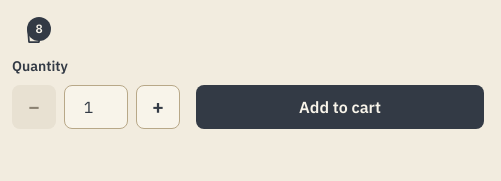
Scenario: AddToCart › at the per-line maximum › refuses an overshoot rather than clamping to the maximum
The image size is (501, 181).
Click the button named "Increase quantity".
click(158, 107)  # box [136,85,180,129]
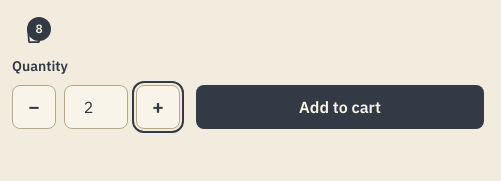
Click the button named "Increase quantity".
click(158, 107)  # box [136,85,180,129]
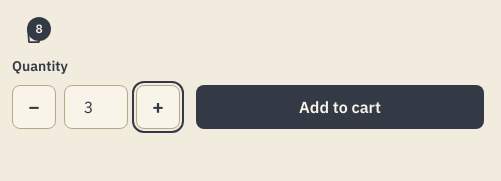
Click the button named "Increase quantity".
click(158, 107)  # box [136,85,180,129]
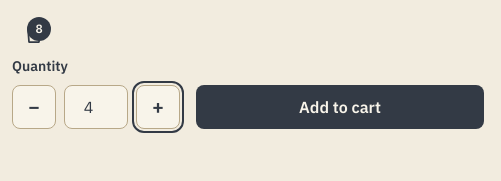
Click the button named "Increase quantity".
click(158, 107)  # box [136,85,180,129]
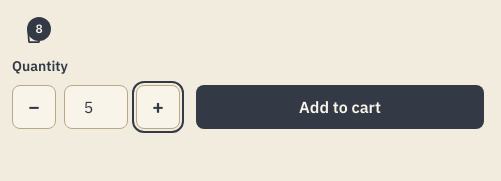
Click the button "Add to cart".
click(340, 107)  # box [196,85,484,129]
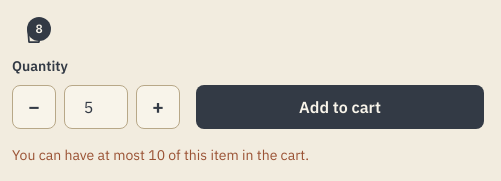
Expected: the message "You can have at most 10 of this item in the cart." is shown, [12,146,309,164]
